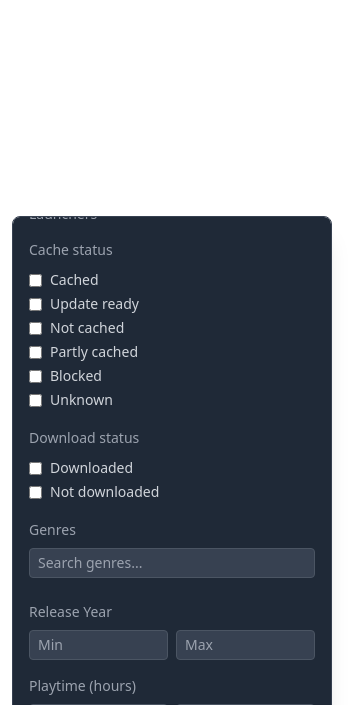
Test: FilterPanel download-status facet (#222) › clicking Downloaded writes ?download_status=downloaded
(page scrolled)
Click the text "Downloaded" at (81, 468), box [29,458,133,477]
(page scrolled)
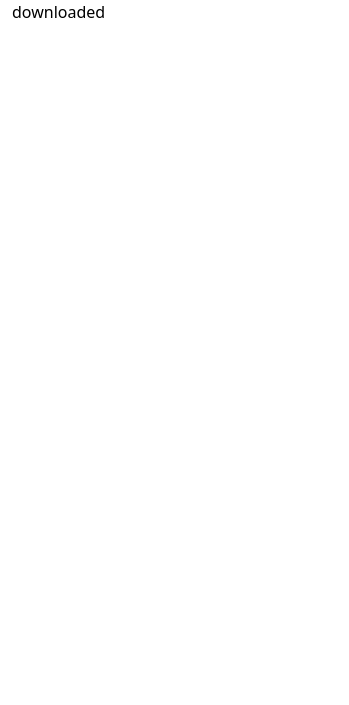
Expected: the text with test id "ds" reads "downloaded", [12,1,105,23]
